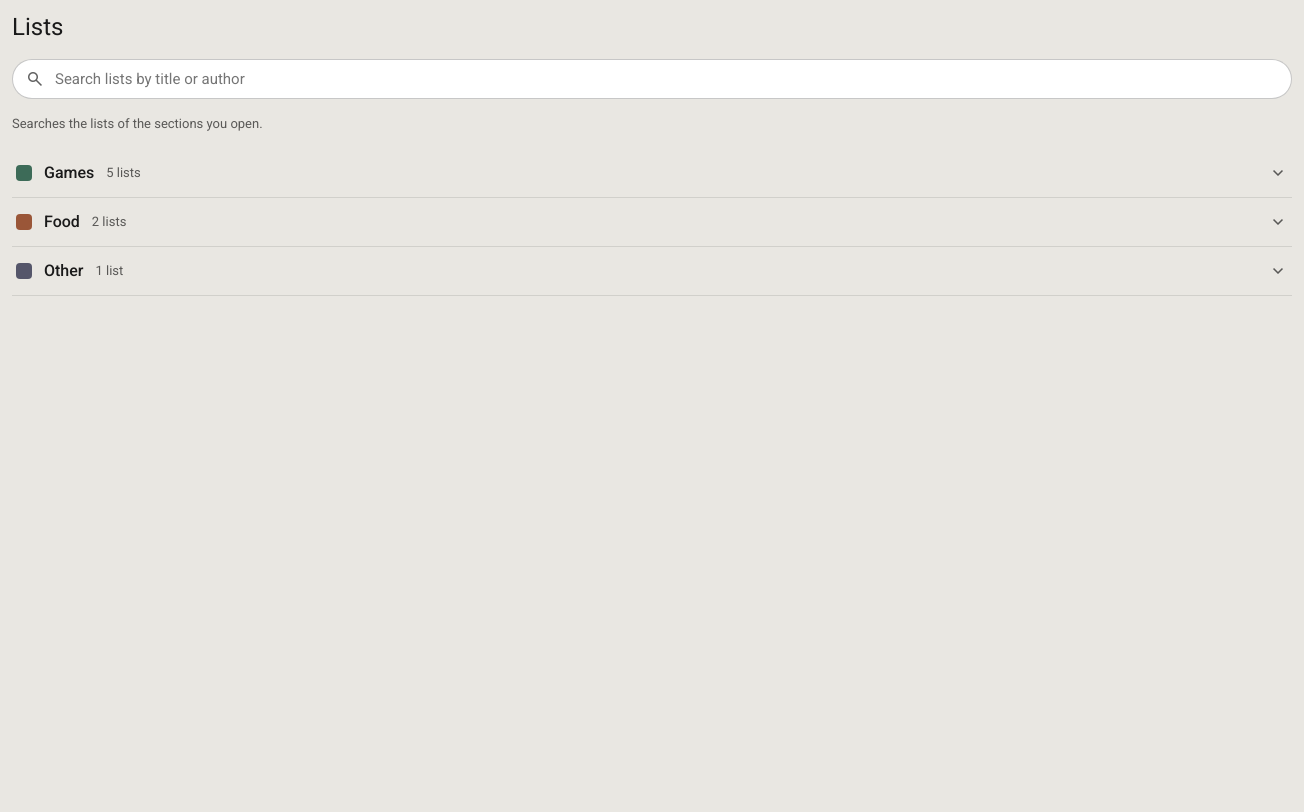
Test case: ListsPane › shows twenty more from where the page ended
Click the button "Games 5 lists" at (69, 172), box [12,149,1292,197]
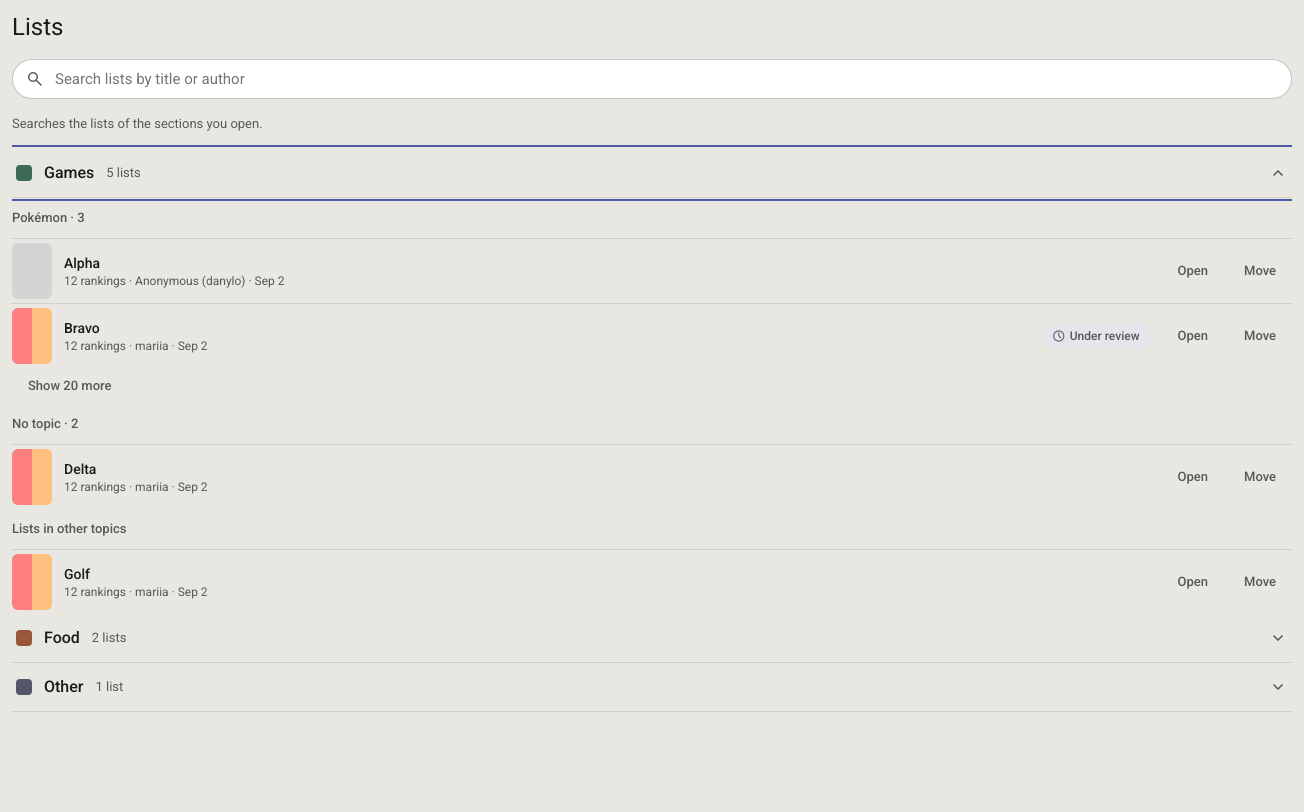
Now the text "Bravo" is shown, box [64,320,100,336]
Click the button "Show 20 more" at (70, 386), box [12,368,128,404]
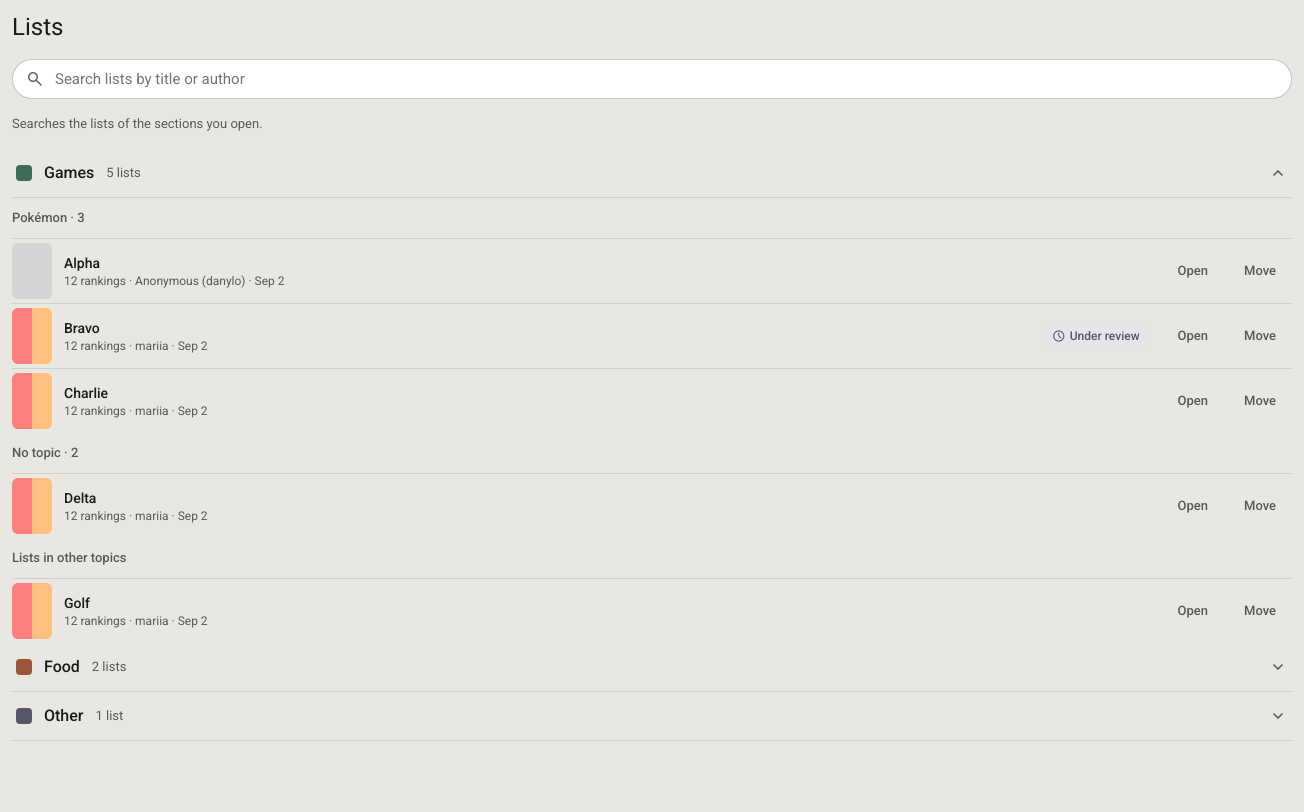
Now the text "Charlie" is shown, box [64,385,108,401]
Now the button "Show 20 more" is gone
